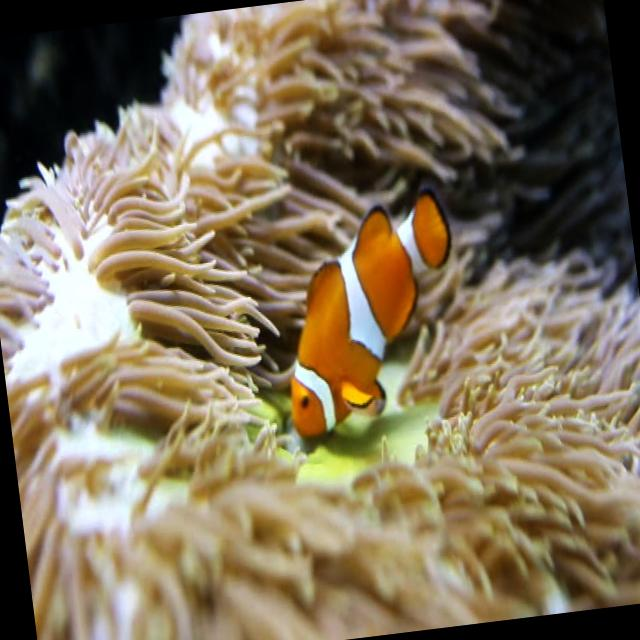ClownFish: (263, 181, 475, 440)
